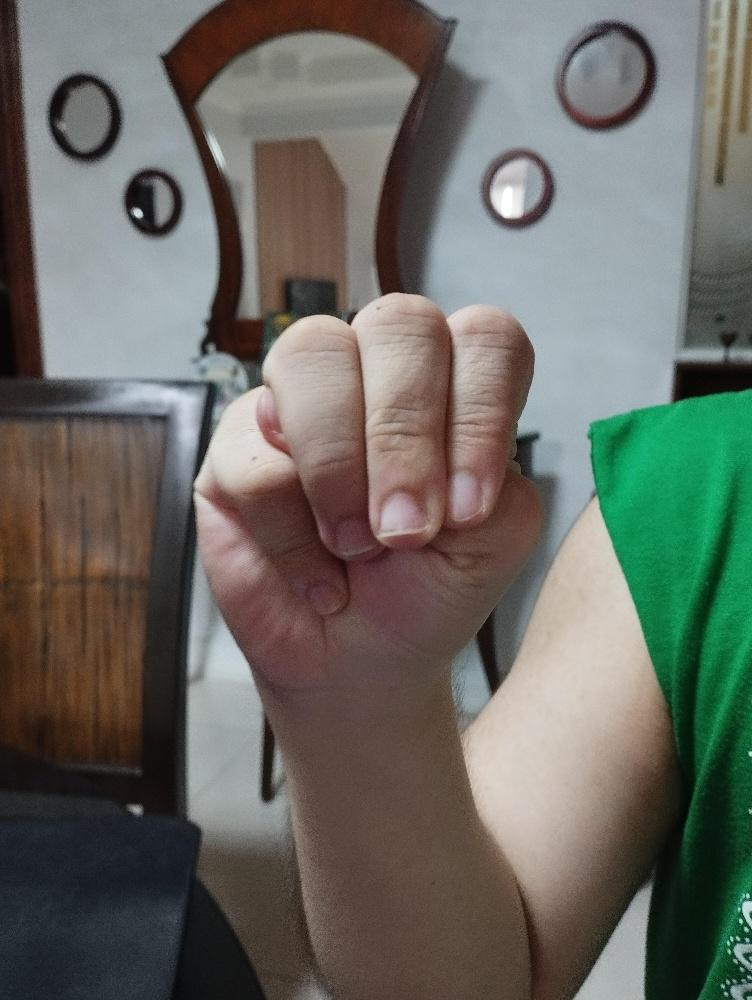m: (189, 288, 550, 697)
